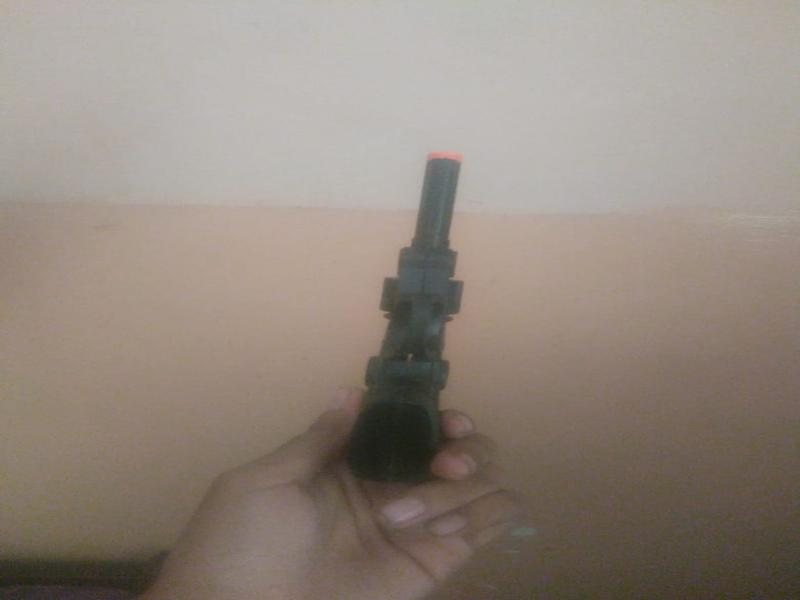gun: (345, 140, 497, 477)
